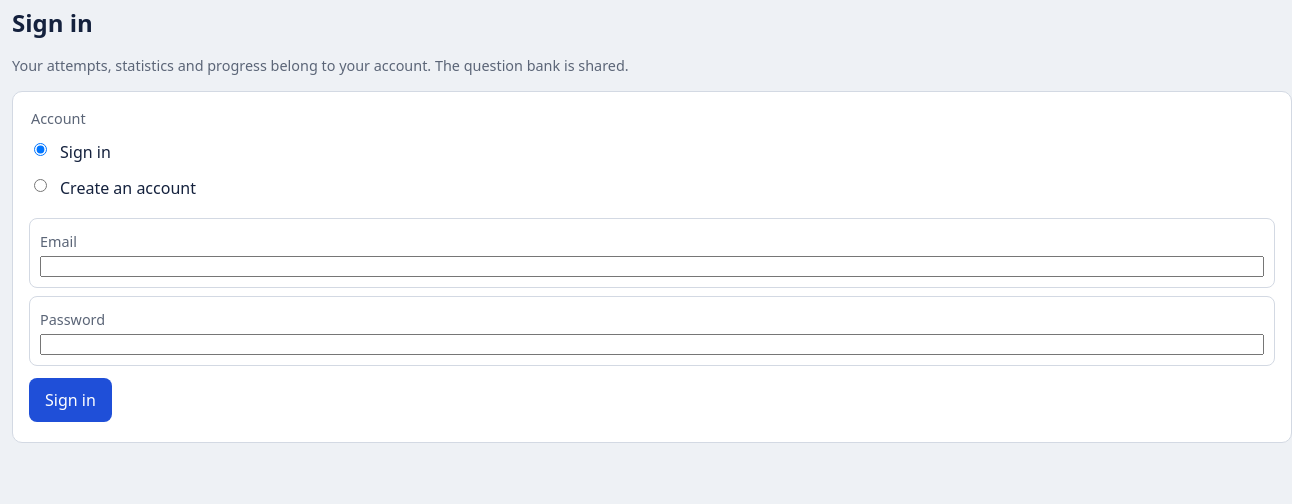
it: login page › shows the server error when the credentials are wrong
Type "me@example.com" into the field labelled "Email" at (652, 266), box [40,256,1264,277]
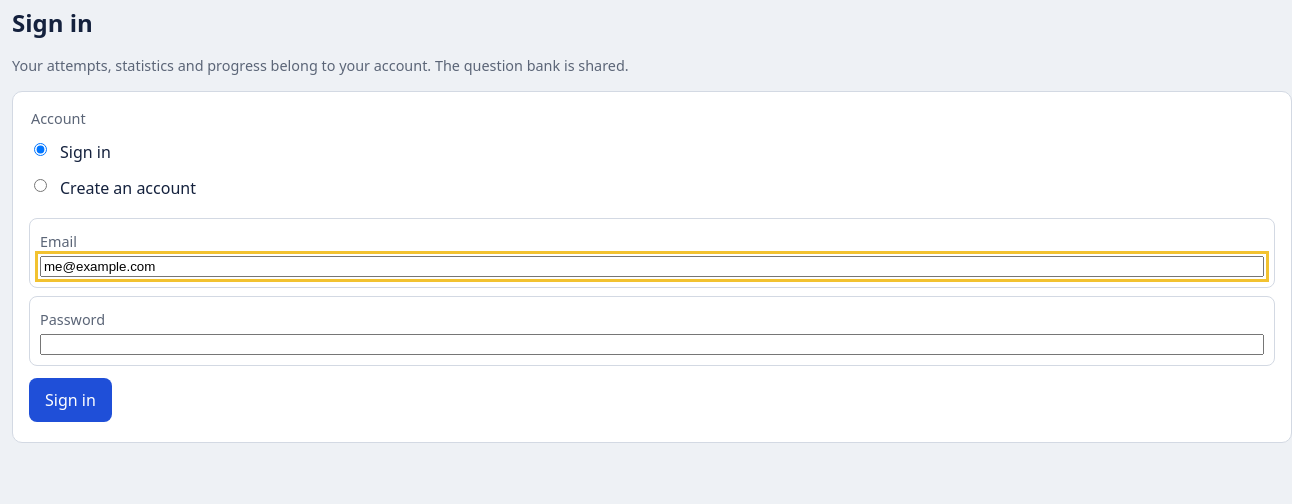
Type "wrongpass" into the password field labelled "Password" at (652, 344), box [40,334,1264,355]
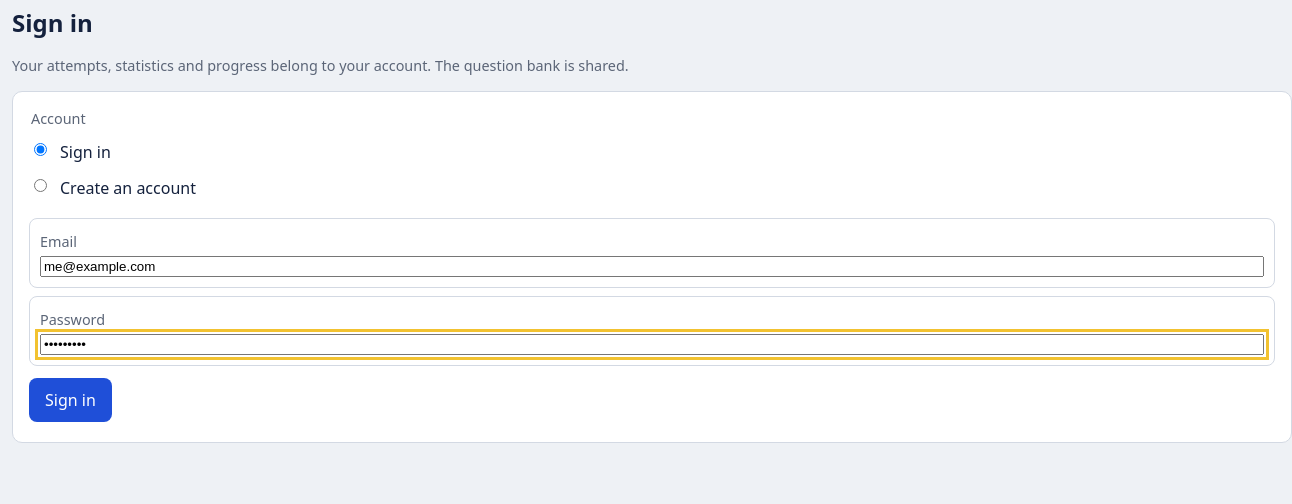
Click the button "Sign in" at (70, 400), box [29,378,112,422]
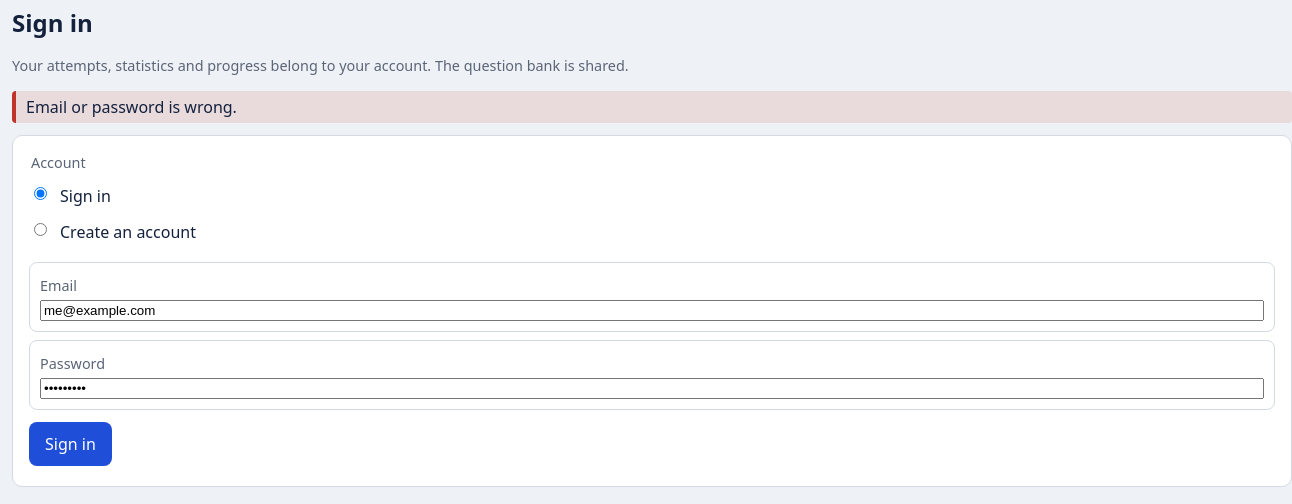
Check: the text "Email or password is wrong." is shown, box [12,91,1291,123]
